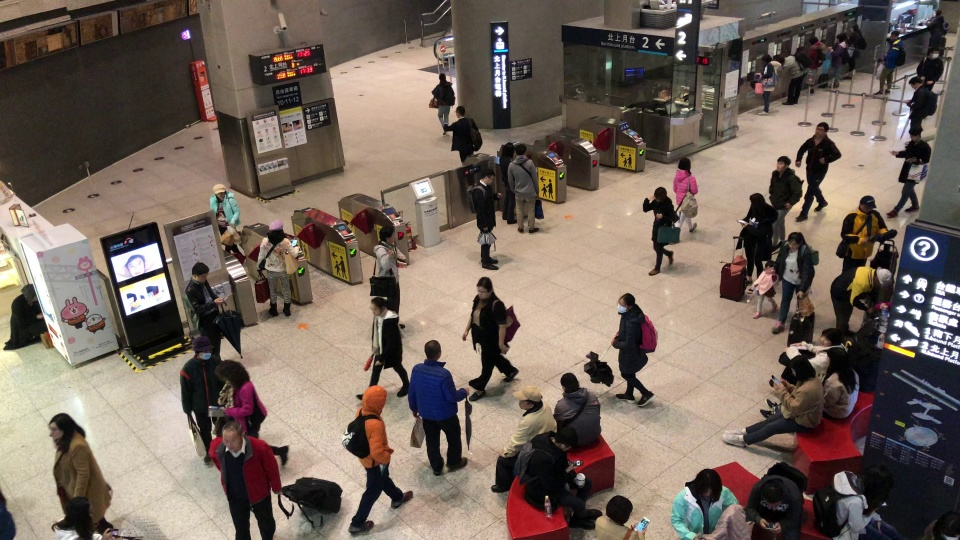person_head: (862, 462, 894, 502), (65, 496, 94, 529), (695, 467, 721, 500), (605, 495, 633, 525), (49, 412, 77, 440), (213, 360, 244, 384), (221, 421, 245, 452), (362, 385, 388, 413), (513, 386, 542, 411), (789, 355, 815, 381), (761, 480, 784, 508), (554, 427, 579, 451), (191, 336, 214, 360), (826, 347, 845, 372), (820, 327, 841, 347), (423, 339, 442, 360), (617, 292, 635, 314), (942, 517, 959, 540), (560, 372, 580, 391), (191, 261, 209, 282), (476, 276, 492, 299), (875, 268, 893, 288), (370, 296, 386, 316), (858, 195, 876, 212), (21, 283, 37, 302), (787, 231, 802, 251), (379, 226, 396, 243), (749, 193, 765, 209), (480, 168, 495, 185), (907, 126, 924, 141), (502, 141, 516, 159), (677, 156, 692, 172), (814, 121, 829, 137), (776, 155, 791, 171), (268, 219, 284, 233), (653, 186, 667, 202), (213, 183, 226, 199), (908, 76, 921, 89), (515, 143, 527, 156), (455, 105, 465, 118), (761, 53, 772, 64), (765, 261, 775, 273), (889, 30, 900, 40), (808, 35, 818, 45), (930, 48, 939, 59), (776, 56, 785, 66), (835, 33, 845, 42), (438, 72, 447, 81), (932, 8, 942, 16), (851, 23, 858, 32)
person_vbox: (341, 385, 414, 537), (721, 354, 824, 448), (512, 427, 603, 530), (208, 421, 282, 540), (407, 339, 470, 476), (213, 360, 290, 469), (757, 346, 860, 421), (47, 412, 113, 528), (490, 385, 558, 493), (461, 276, 519, 402), (811, 462, 900, 540), (356, 297, 410, 400), (610, 292, 658, 405), (179, 336, 221, 465), (768, 231, 819, 335), (669, 467, 741, 540), (744, 461, 808, 540), (794, 121, 842, 222), (181, 260, 226, 357), (885, 126, 932, 218), (255, 218, 299, 316), (829, 266, 893, 330), (734, 193, 779, 284), (777, 326, 843, 386), (553, 372, 602, 450), (839, 195, 888, 273), (465, 168, 502, 271), (373, 226, 408, 330), (768, 155, 803, 255), (642, 186, 680, 276), (507, 142, 540, 234), (2, 283, 46, 351), (208, 182, 244, 258), (443, 105, 482, 166), (595, 495, 647, 540), (871, 30, 906, 95), (672, 156, 698, 233), (775, 51, 812, 105), (902, 76, 939, 126), (754, 52, 782, 117), (748, 261, 779, 319), (498, 141, 518, 225), (430, 72, 456, 136), (842, 23, 867, 79), (806, 35, 826, 96), (916, 48, 944, 91), (828, 33, 849, 88), (923, 8, 950, 37)
